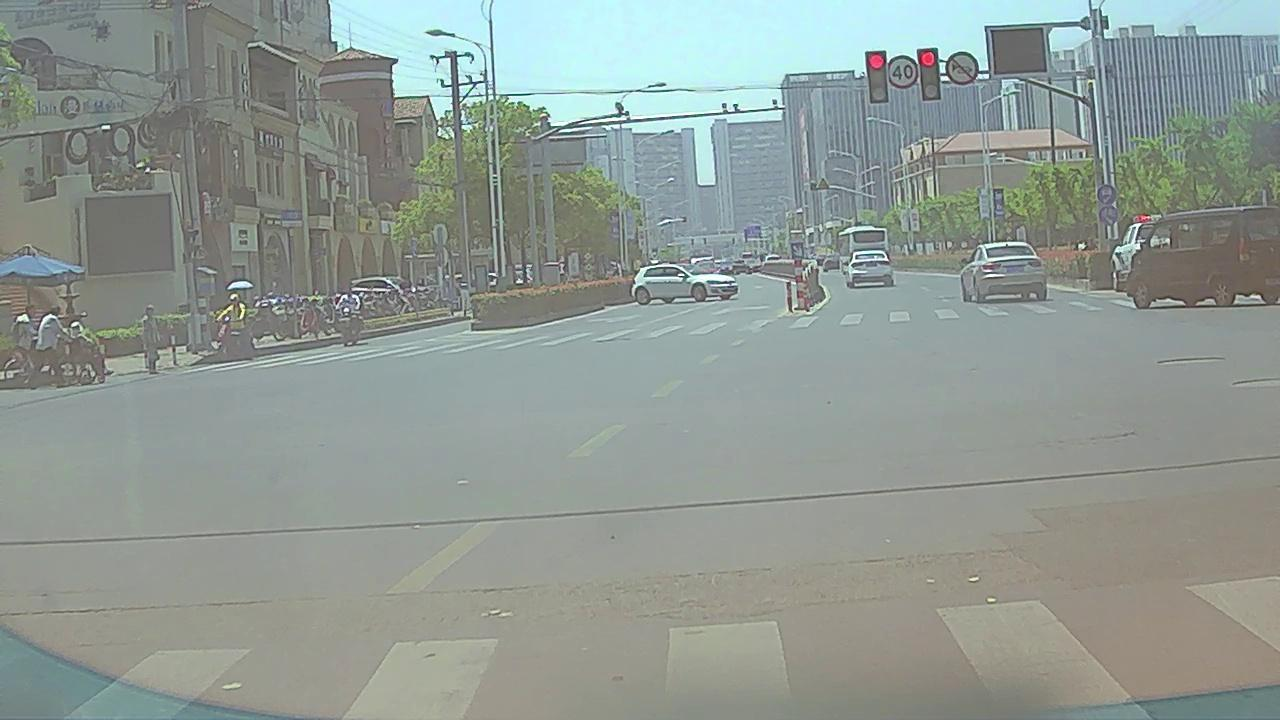traffic_light: (921, 48, 940, 100), (868, 51, 887, 100)
